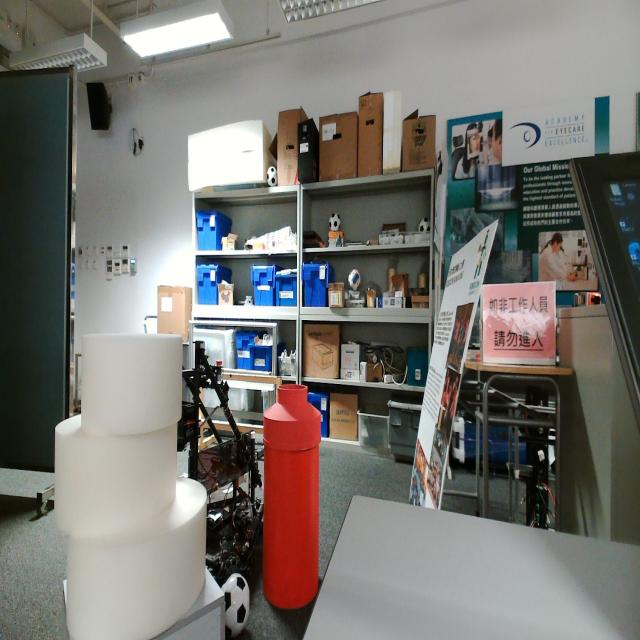ball: (220, 570, 252, 640), (348, 266, 362, 292), (266, 165, 278, 188), (417, 215, 431, 234), (328, 212, 341, 232)
